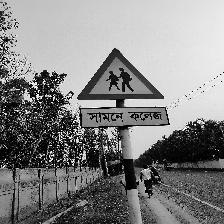College-in-front: (76, 40, 163, 144)
